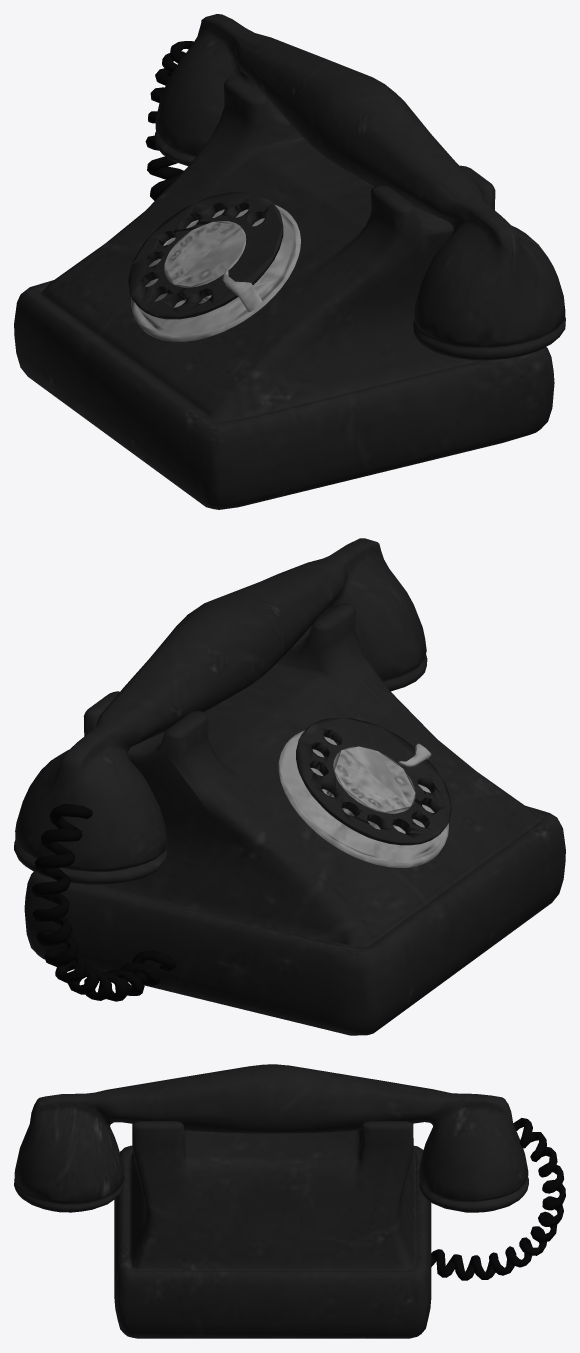
File: phone.glb
3 renders of one model, top to bottom at view 1: azimuth 30°, elevation 25°; view 2: azimuth 150°, elevation 25°; view 3: azimuth 270°, elevation 25°, orthographic. The views are drawn at different scales.
Visible parts, largest first — view 1: base, handset; view 2: base, handset; view 3: base, handset.
Part boxes in pixels (box(x1,y1,x2,y2)): base: box(14, 41, 554, 509); handset: box(154, 14, 565, 360); base: box(24, 603, 565, 1035); handset: box(14, 538, 427, 884); base: box(114, 1118, 565, 1338); handset: box(14, 1064, 528, 1212).
Size of the model in its own units: 0.2184 by 0.1879 by 0.3799.
Materials: 1 (1 with a texture image).
